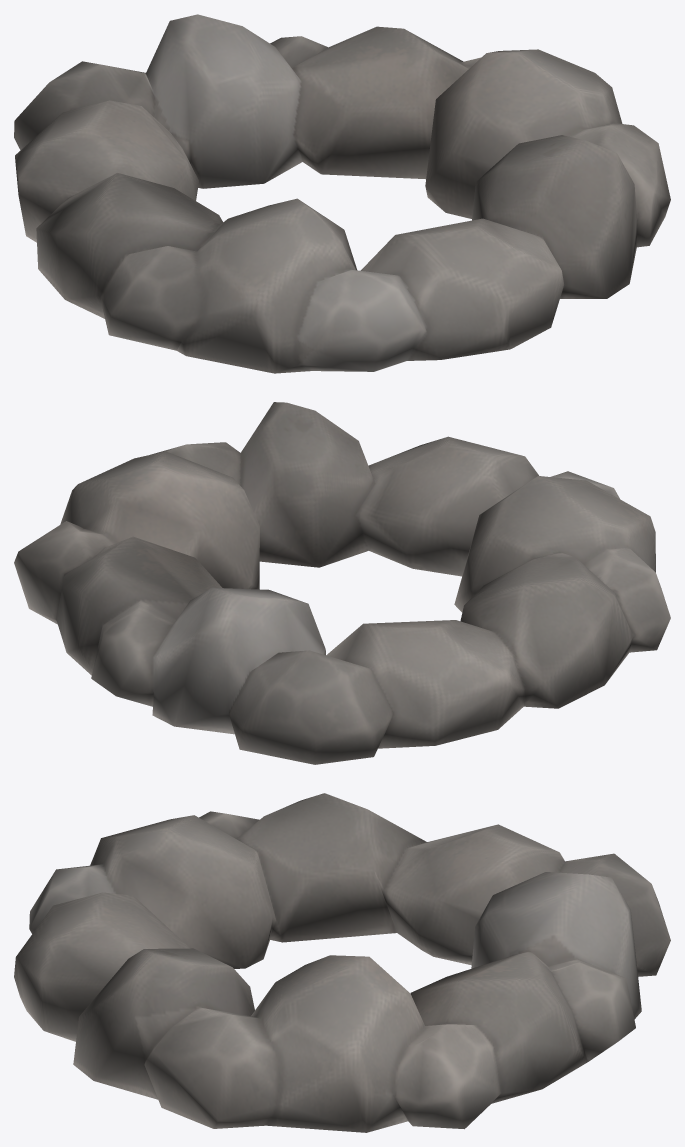
Rendered from spitter1hole_exp.fbx.
3 views of the same model, one above another, from view 1: azimuth 30°, elevation 25°; view 2: azimuth 150°, elevation 25°; view 3: azimuth 270°, elevation 25° (orthographic). The views are drawn at different scales.
Parts seen in each view (by area): view 1: rubble_low; view 2: rubble_low; view 3: rubble_low.
Part boxes in pixels (x1=…): rubble_low: x1=14, y1=14, x2=670, y2=373; rubble_low: x1=14, y1=402, x2=670, y2=764; rubble_low: x1=14, y1=793, x2=670, y2=1132.
Size of the model in its own units: 364 by 80.28 by 374.
